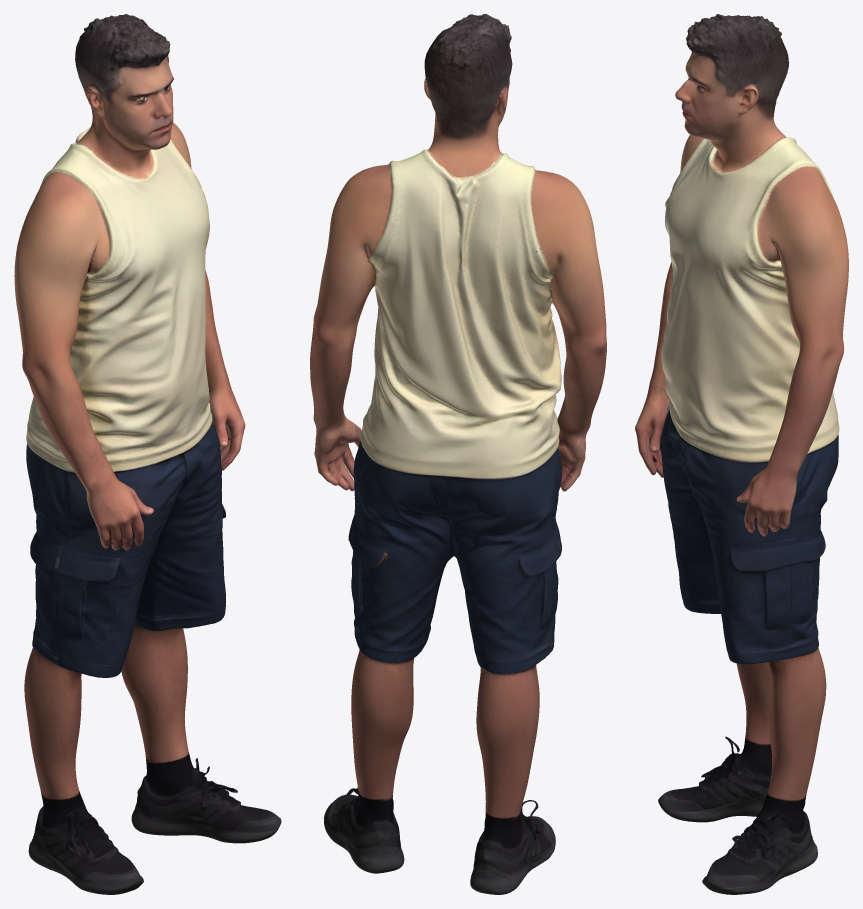
The model's file is conductor_trader_male.glb.
3 renders of one model, left to right at view 1: azimuth 30°, elevation 25°; view 2: azimuth 150°, elevation 25°; view 3: azimuth 270°, elevation 25°, orthographic. The views are drawn at different scales.
Parts seen in each view (by area): view 1: Object_5, Object_6, Object_7; view 2: Object_6, Object_5, Object_7; view 3: Object_6, Object_5, Object_7.
Part boxes in pixels (<box>): Object_5: <box>15,24,277,894</box>; Object_6: <box>14,14,277,891</box>; Object_7: <box>15,24,281,864</box>; Object_6: <box>310,20,593,894</box>; Object_5: <box>310,14,606,880</box>; Object_7: <box>337,16,602,843</box>; Object_6: <box>684,14,848,894</box>; Object_5: <box>635,14,835,886</box>; Object_7: <box>673,17,742,886</box>.
Bounding box in the file's own units: 0.6261 × 1.9 × 0.4512.
1 material, 1 textured.
